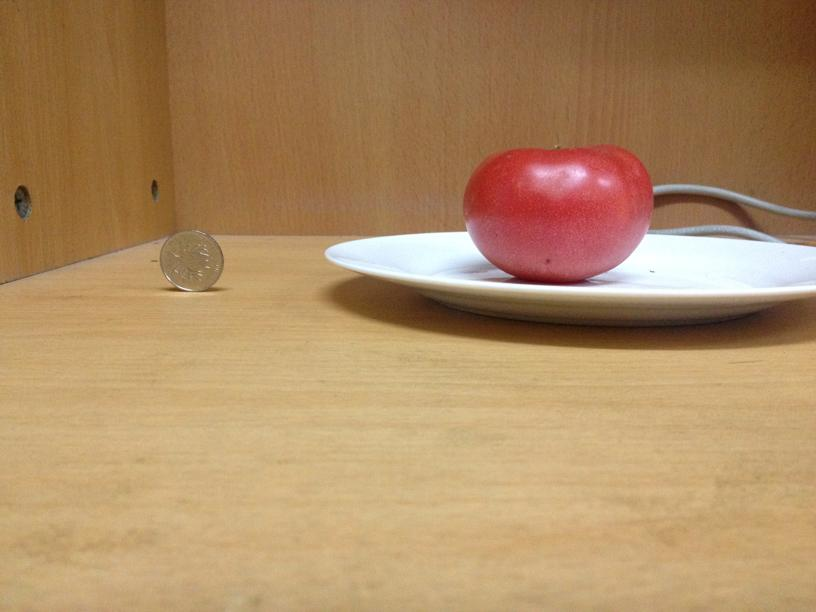coin: (159, 225, 225, 293)
tomato: (114, 232, 186, 292)
